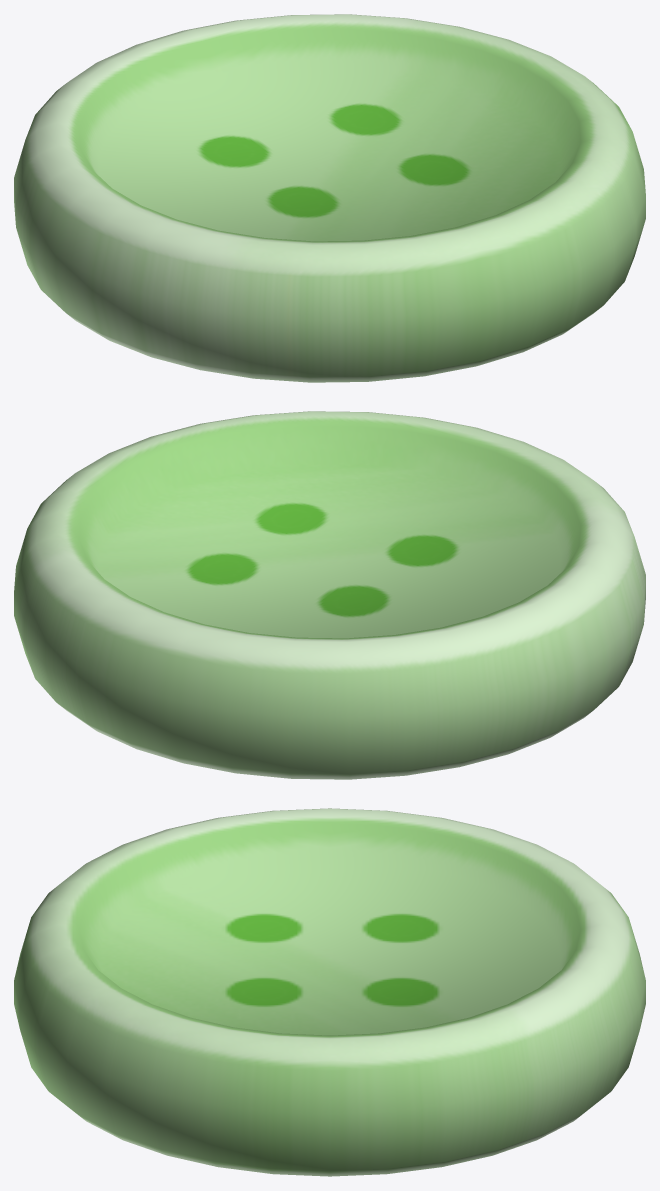
Rendered from green_button.glb.
3 views of the same model, one above another, from view 1: azimuth 30°, elevation 25°; view 2: azimuth 150°, elevation 25°; view 3: azimuth 270°, elevation 25° (orthographic).
Visible parts, largest first — view 1: Cylinder; view 2: Cylinder; view 3: Cylinder.
Boxes of the visible parts, x1=… form: Cylinder: x1=14, y1=14, x2=645, y2=382; Cylinder: x1=14, y1=411, x2=645, y2=779; Cylinder: x1=14, y1=808, x2=645, y2=1176.
Bounding box in the file's own units: 2 × 0.4755 × 2.
Materials: 1 (1 with a texture image).
